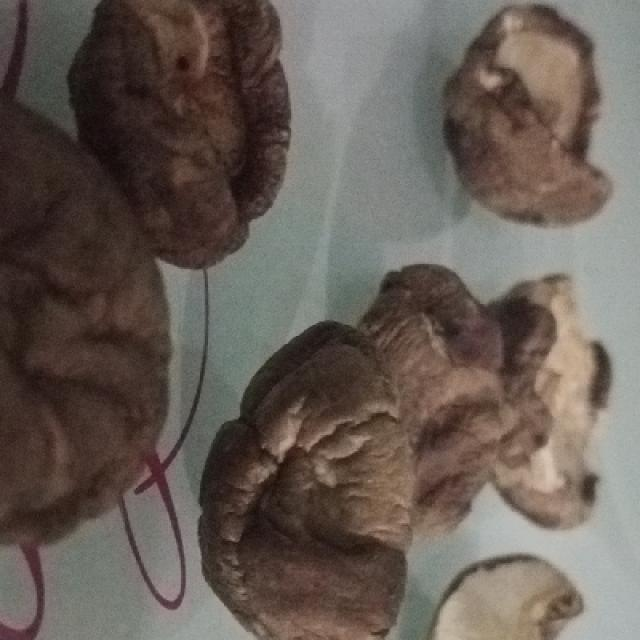Lentinus edodes: (0, 102, 169, 553), (198, 320, 416, 640), (65, 0, 291, 262), (437, 4, 614, 223), (362, 266, 504, 524), (479, 273, 613, 530)
